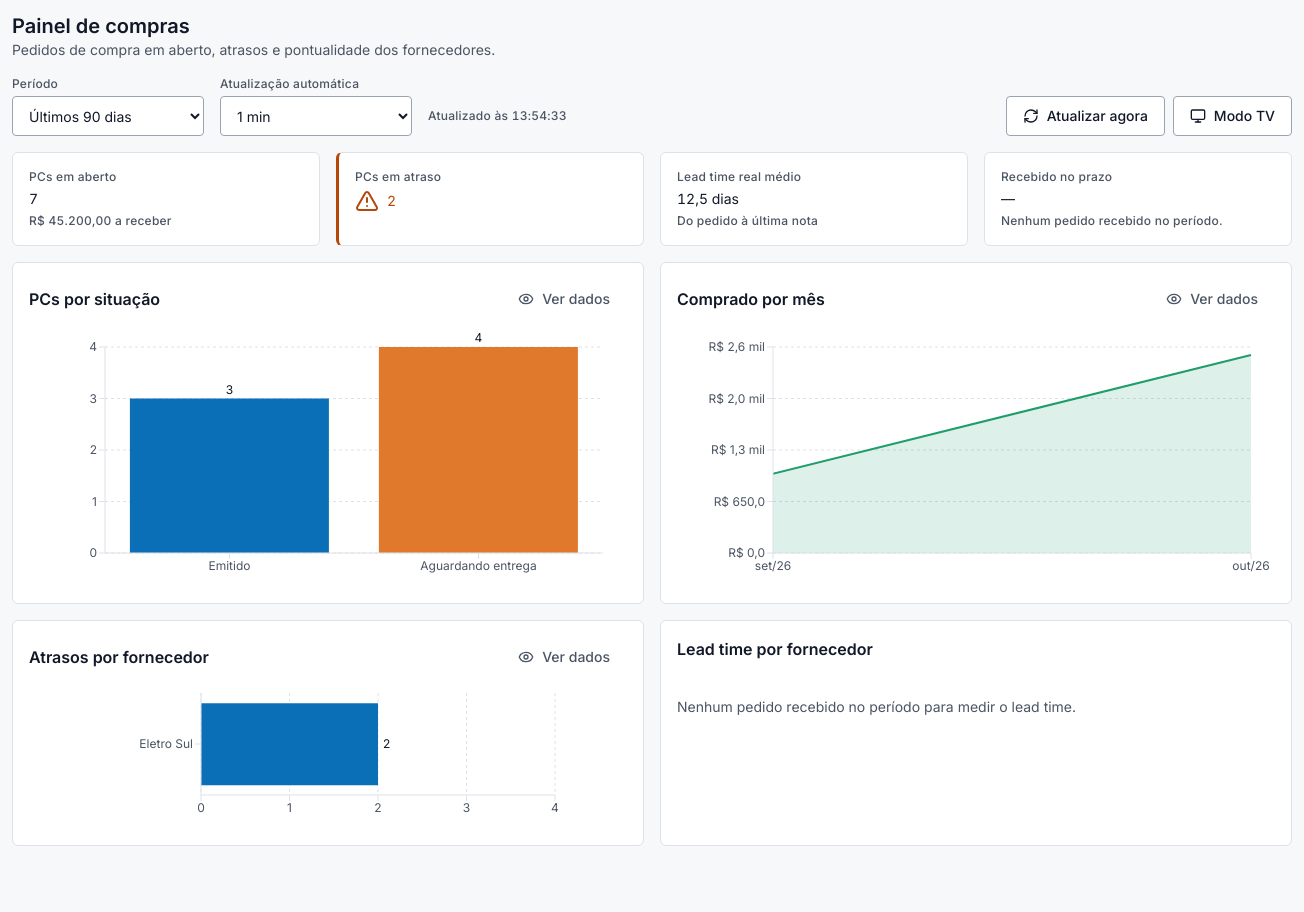
Scenario: PainelCompras › modo TV › navegador negou a tela cheia: o modo TV segue dentro da pagina
The image size is (1304, 912).
Check: the element "PCs em aberto" is shown, box [12,152,320,246]
Click the button "Modo TV". click: (1232, 116)
box: [1173,96,1292,136]
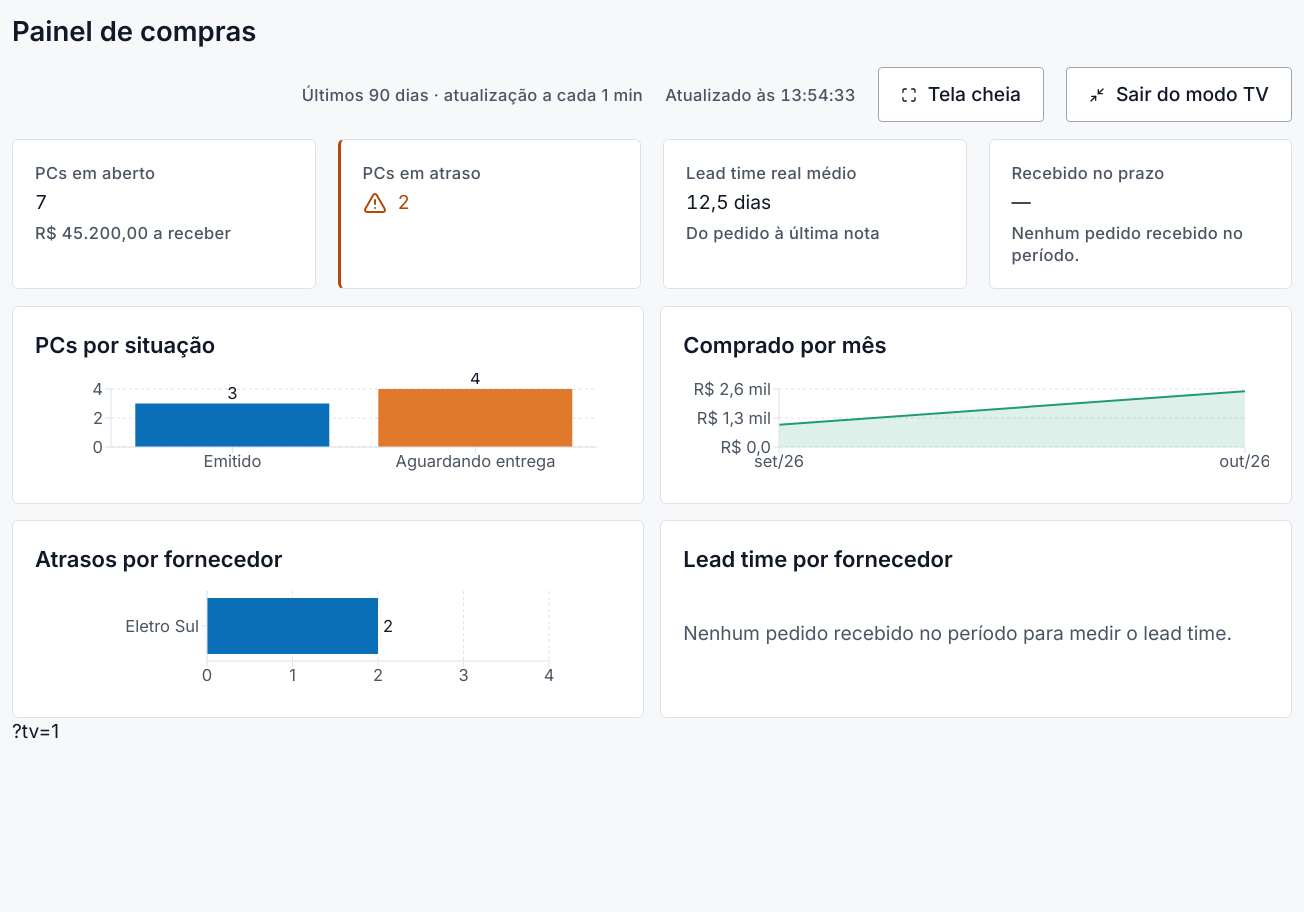
Check: the button "Sair do modo TV" is shown, box [1066,67,1292,122]
